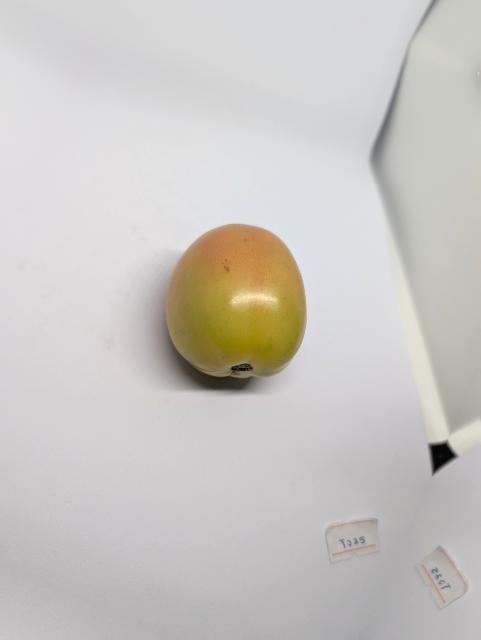breaker: (156, 221, 334, 395)
